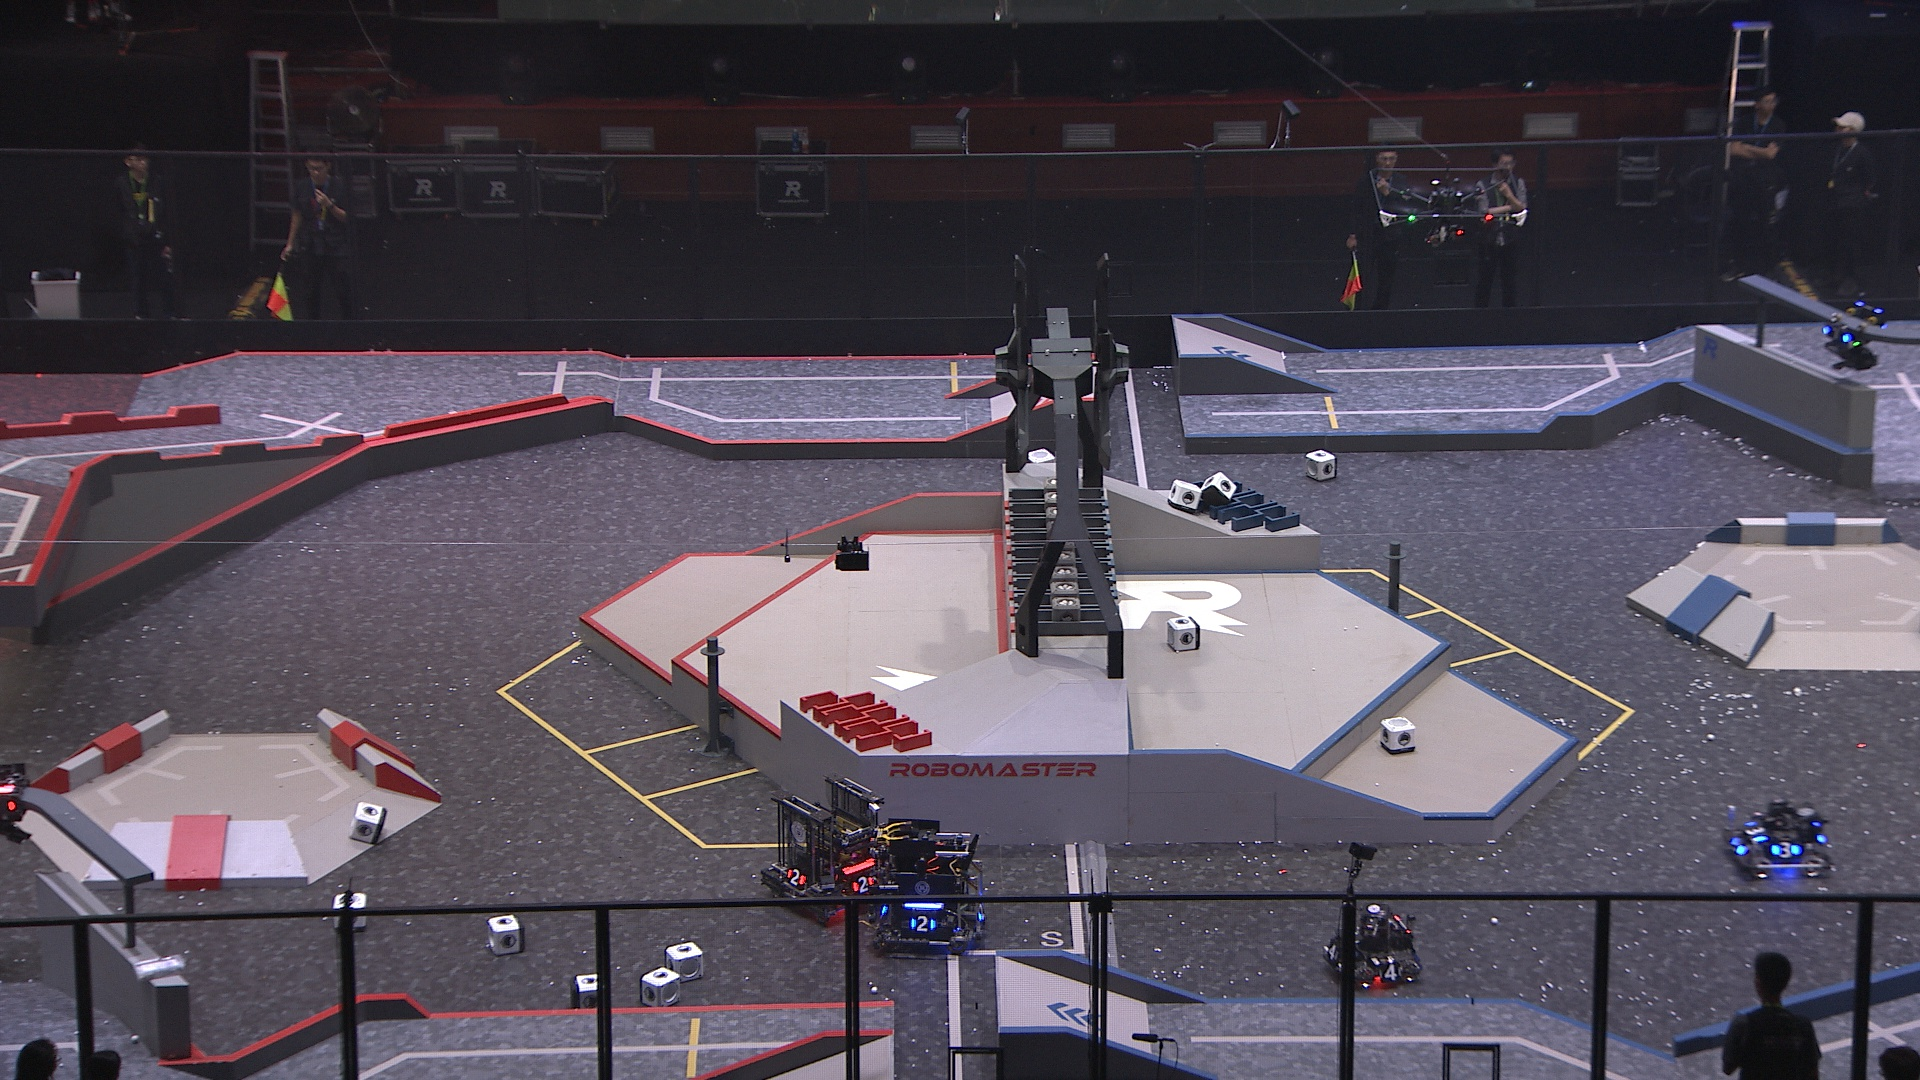armor: (1743, 818, 1768, 844), (1770, 840, 1803, 860), (1820, 324, 1854, 343), (1377, 964, 1404, 984), (1730, 833, 1750, 858), (909, 915, 936, 932), (851, 876, 877, 891), (785, 866, 804, 887), (1323, 942, 1342, 963), (975, 902, 988, 926)
car: (757, 773, 887, 920), (864, 818, 992, 963), (1319, 903, 1425, 996), (1724, 796, 1836, 884)
watcher: (1815, 289, 1890, 372)
